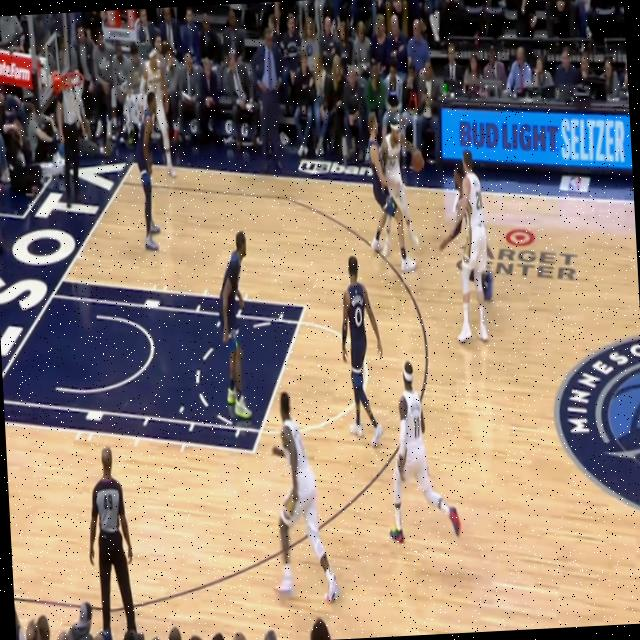Foul: (362, 103, 428, 274)
